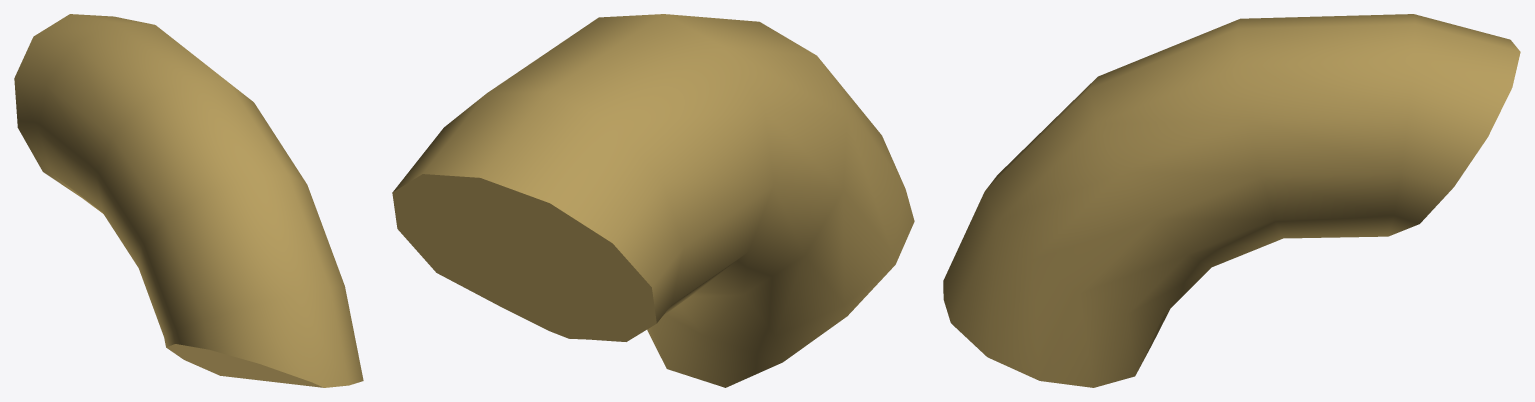
Rendered from broken_pot_cell_001.fbx.
The picture shows the model from 3 angles, left to right: view 1: azimuth 30°, elevation 25°; view 2: azimuth 150°, elevation 25°; view 3: azimuth 270°, elevation 25°; orthographic projection. The views are drawn at different scales.
Visible parts, largest first — view 1: broken_pot_cell.001; view 2: broken_pot_cell.001; view 3: broken_pot_cell.001.
Part boxes in pixels (x1=…): broken_pot_cell.001: x1=14, y1=14, x2=363, y2=387; broken_pot_cell.001: x1=392, y1=14, x2=914, y2=387; broken_pot_cell.001: x1=943, y1=14, x2=1520, y2=387.
Bounding box in the file's own units: 0.16 × 0.2577 × 0.4105.
